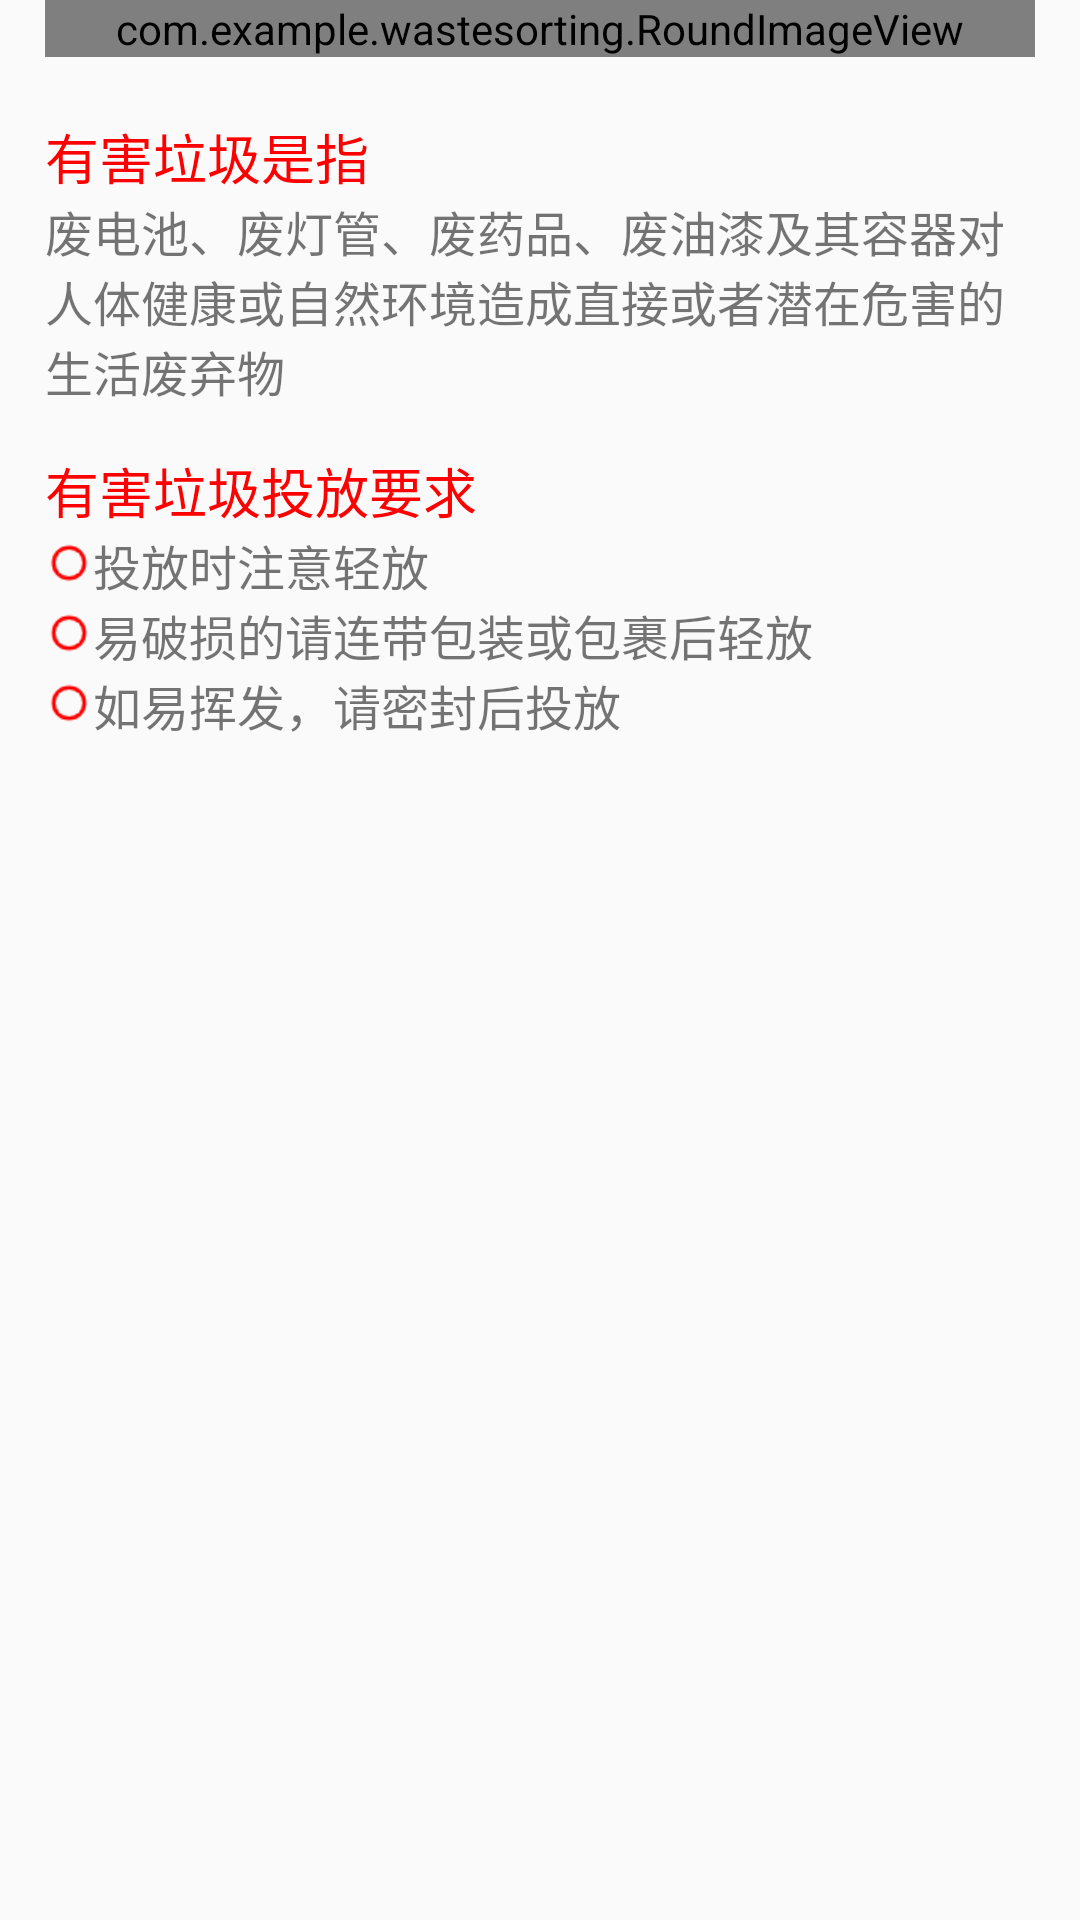

Named icons in this screenshot (1080px x 1920px) and their centers, (x,y):
circle: (69,563), (69,633), (69,703)
